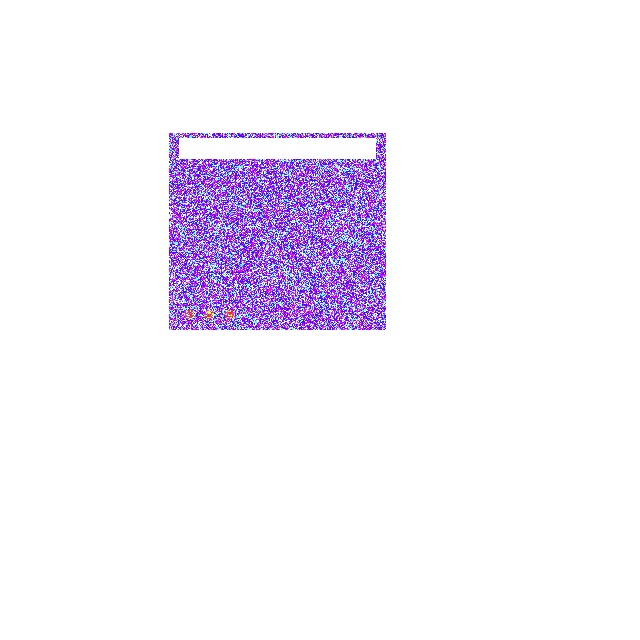Imprimante: (168, 133, 385, 330)
